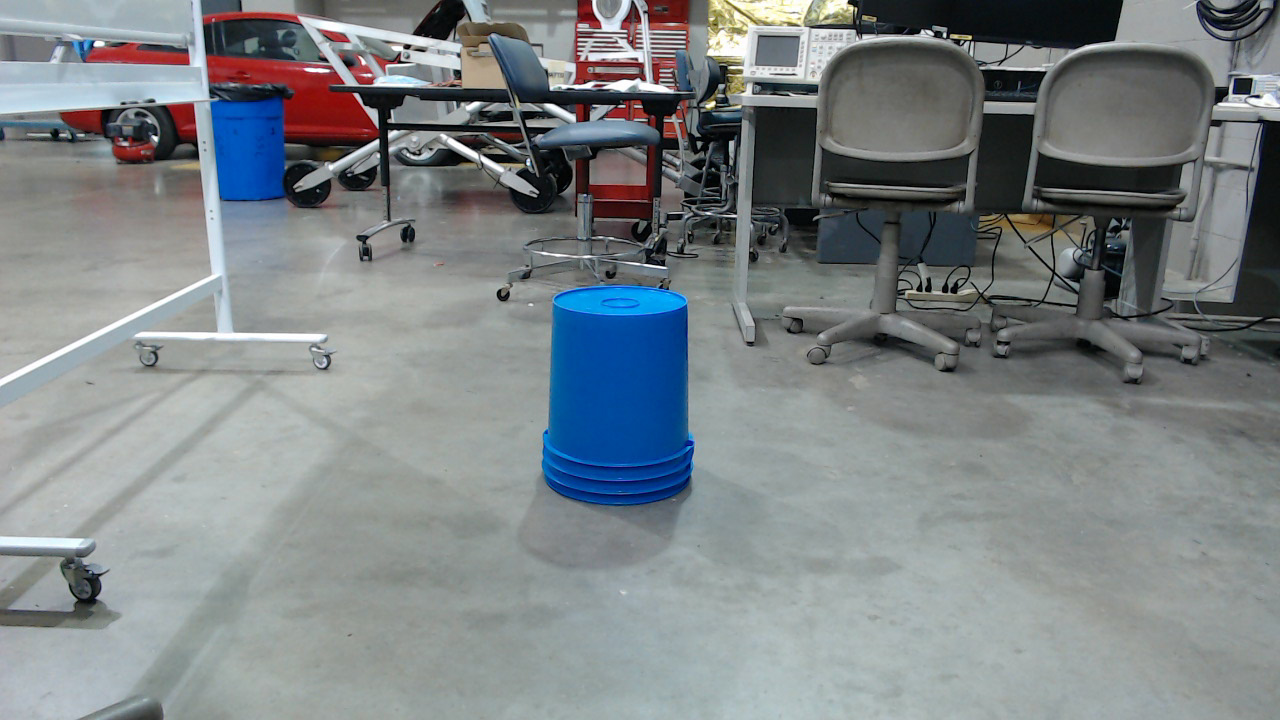blue_bucket: (544, 288, 702, 514)
